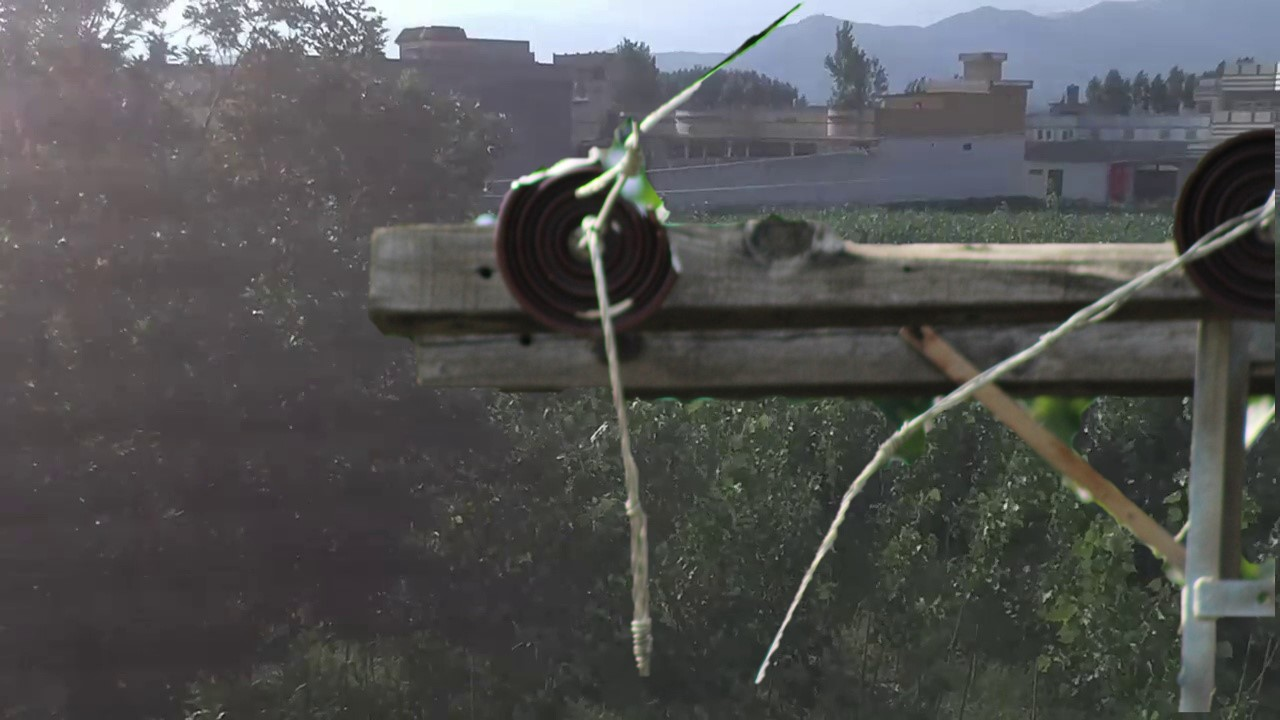defect_disc: (490, 147, 688, 345)
